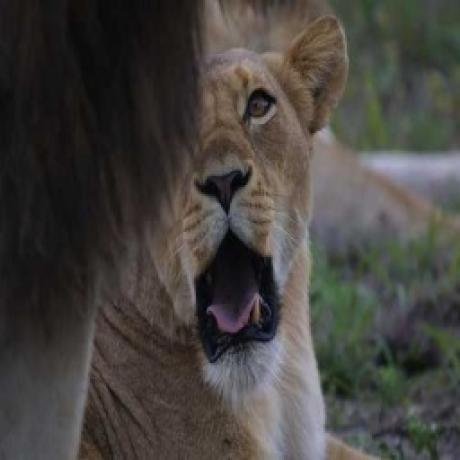Lion: (79, 16, 350, 460)
